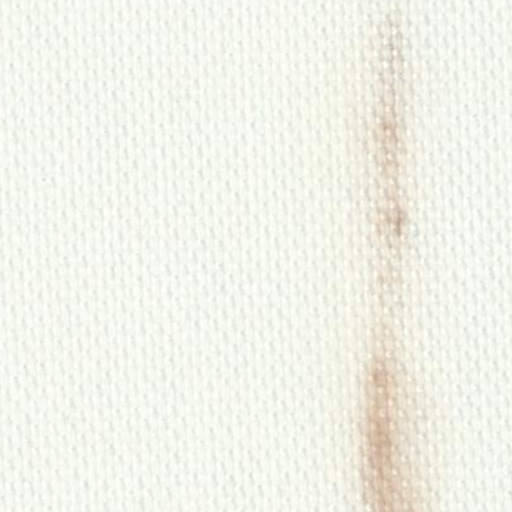WuZi: (337, 4, 476, 506)
